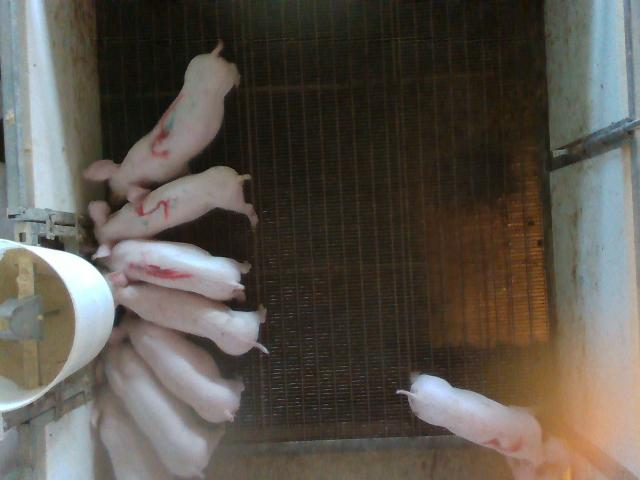pig-1: (100, 239, 250, 301)
pig-2: (398, 375, 568, 479)
pig-3: (85, 42, 240, 196)
pig-5: (89, 166, 258, 257)
